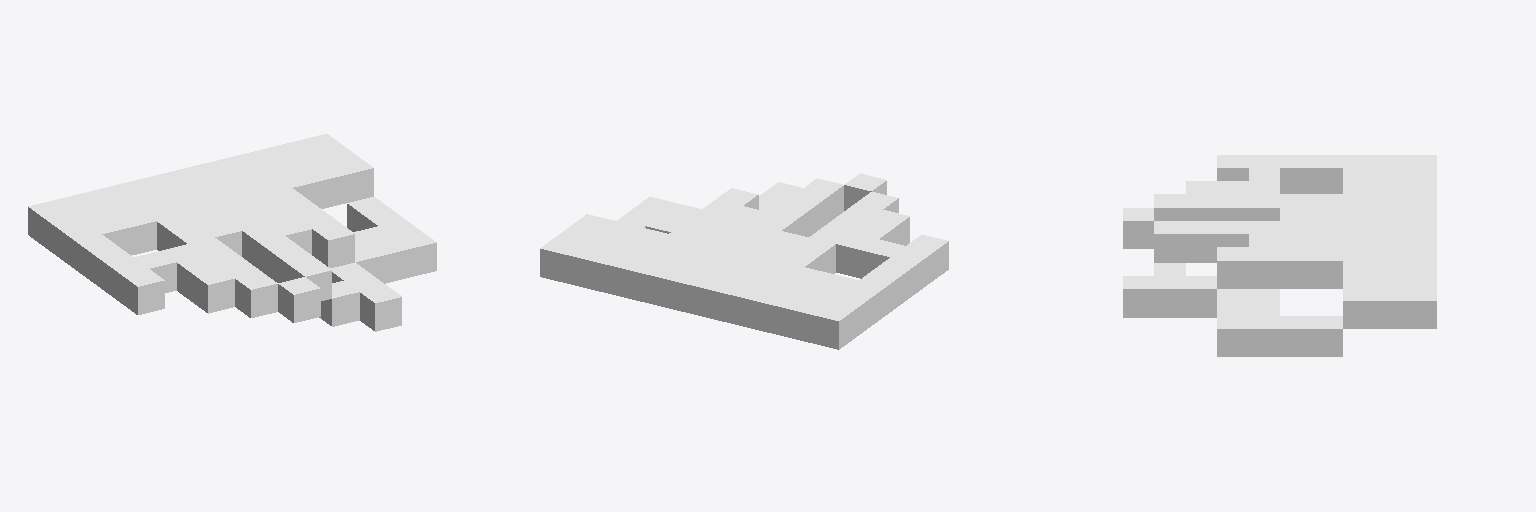
File: stairs_shard-9.obj
3 renders of one model, left to right at view 1: azimuth 30°, elevation 25°; view 2: azimuth 150°, elevation 25°; view 3: azimuth 270°, elevation 25°, orthographic.
Visible parts, largest first — view 1: object 1; view 2: object 1; view 3: object 1.
Part boxes in pixels (left/top/right/bottom): object 1: left=28, top=134, right=436, bottom=331; object 1: left=540, top=173, right=948, bottom=349; object 1: left=1123, top=155, right=1436, bottom=356.
Bounding box in the file's own units: 1.1 × 0.2 × 1.